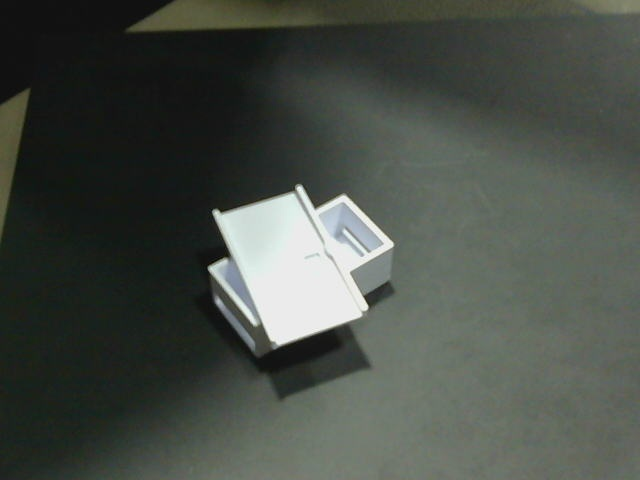enclosure_defective: (210, 187, 393, 345)
